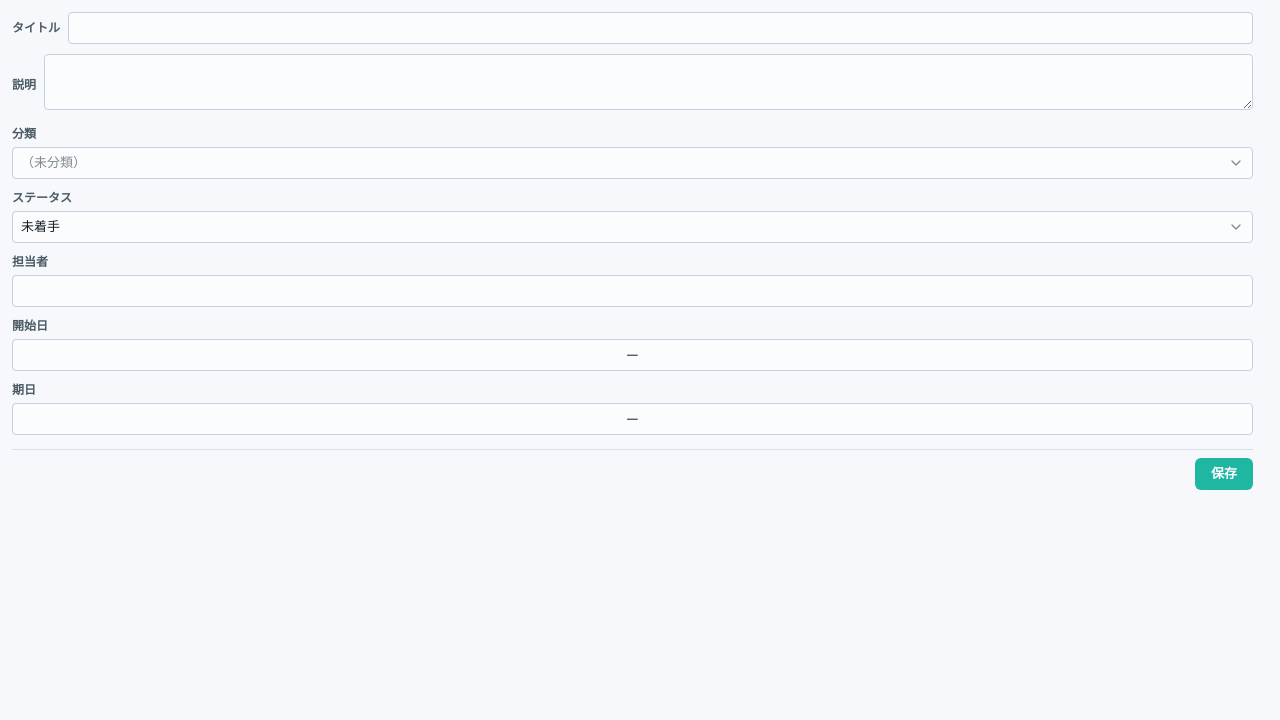
it: Desk の開始日・期日（1コンポーネント入力 / v2-170） › 外側クリックと Esc で popover が閉じること
Click the button named "開始日". click: (632, 355)
box: [12,339,1253,371]
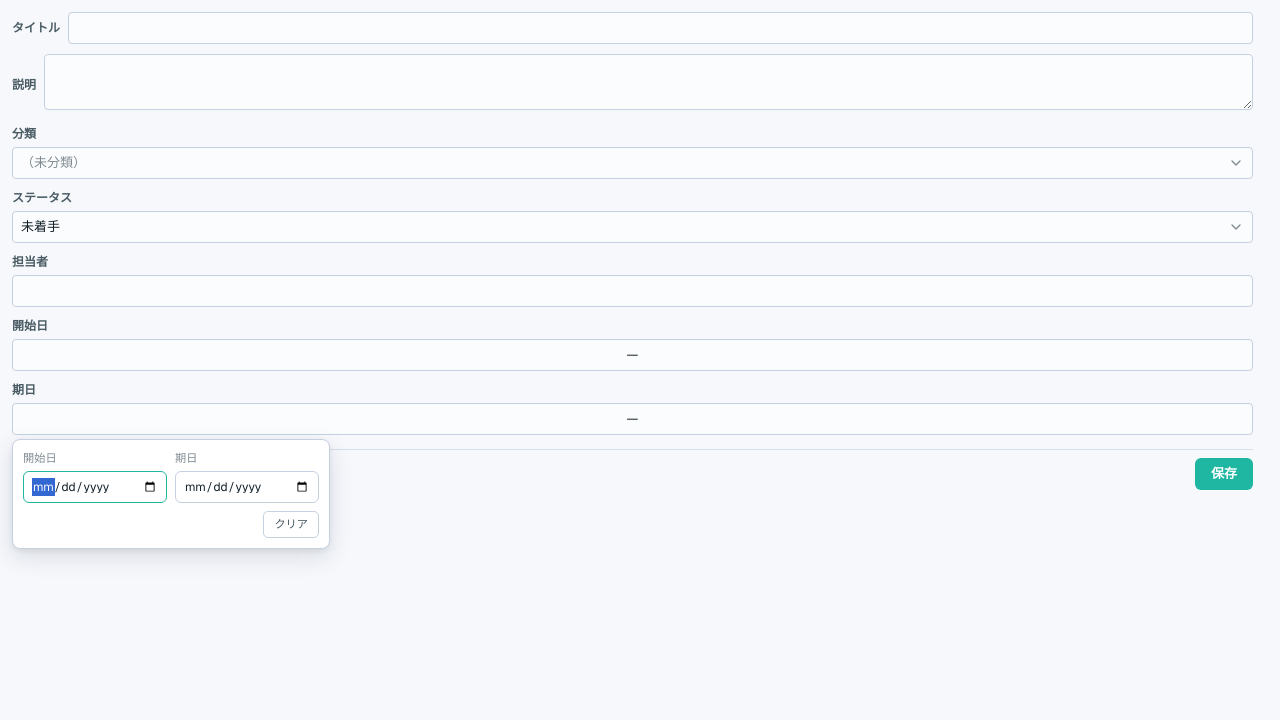
Click the field labelled "タイトル". click: (660, 28)
box: [68,12,1253,44]
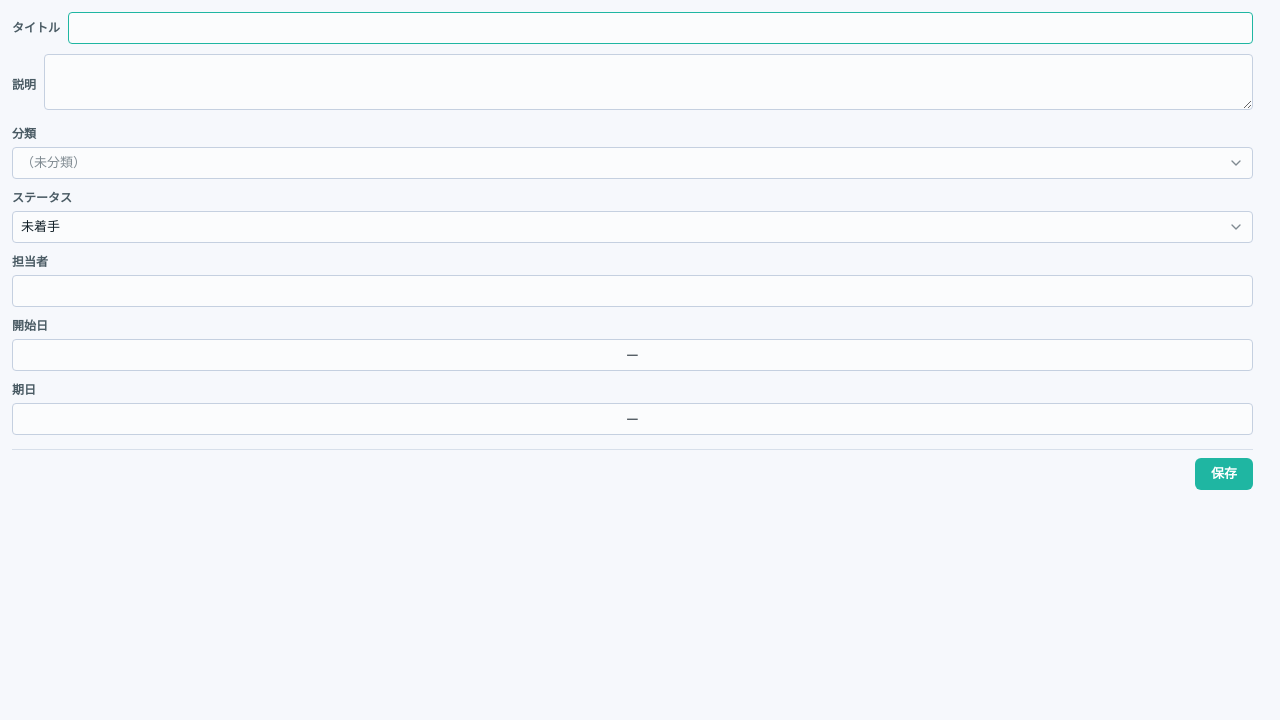
Expected: the dialog "開始日・期日の範囲" is gone
Click the button named "開始日". click: (632, 355)
box: [12,339,1253,371]
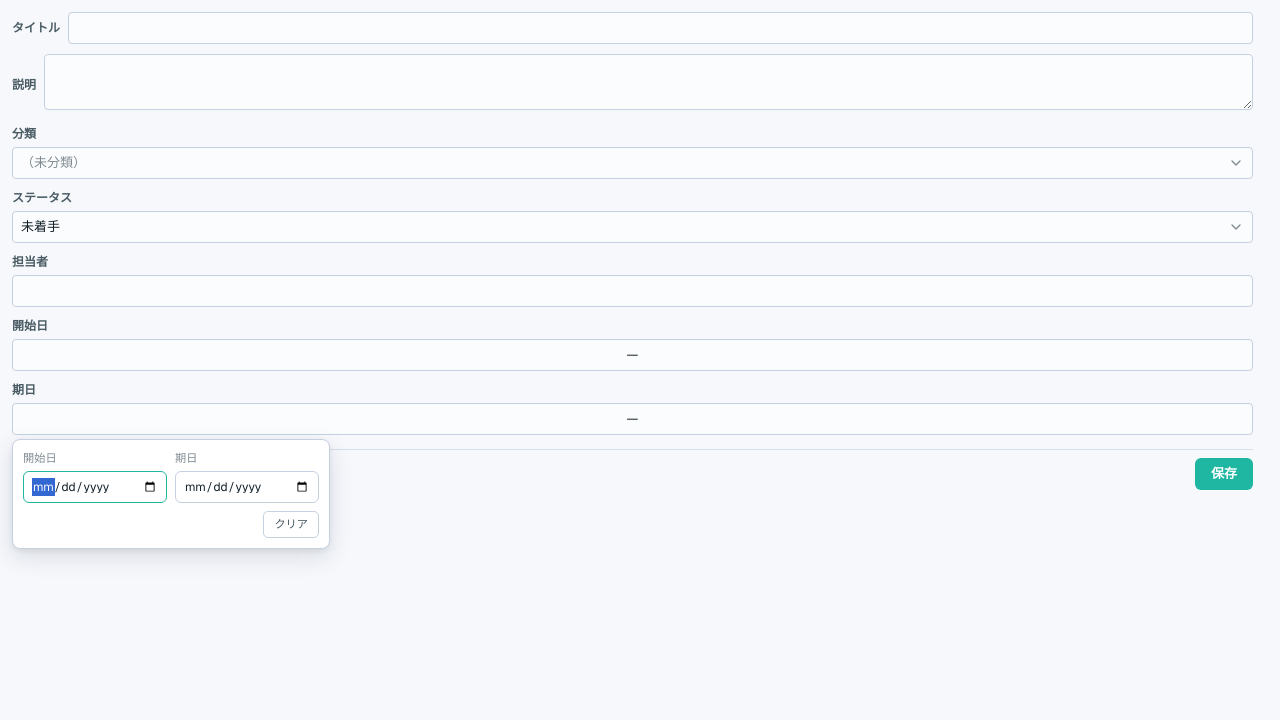
Press Escape
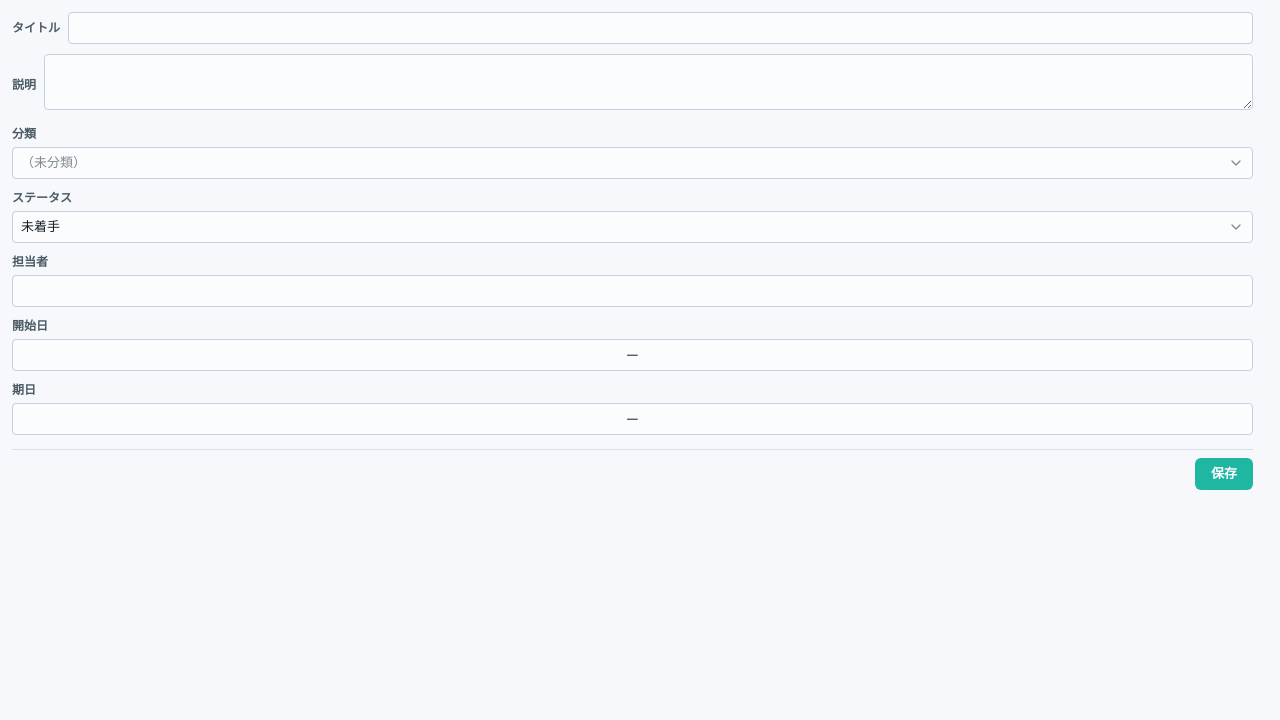
Expected: the dialog "開始日・期日の範囲" is gone
